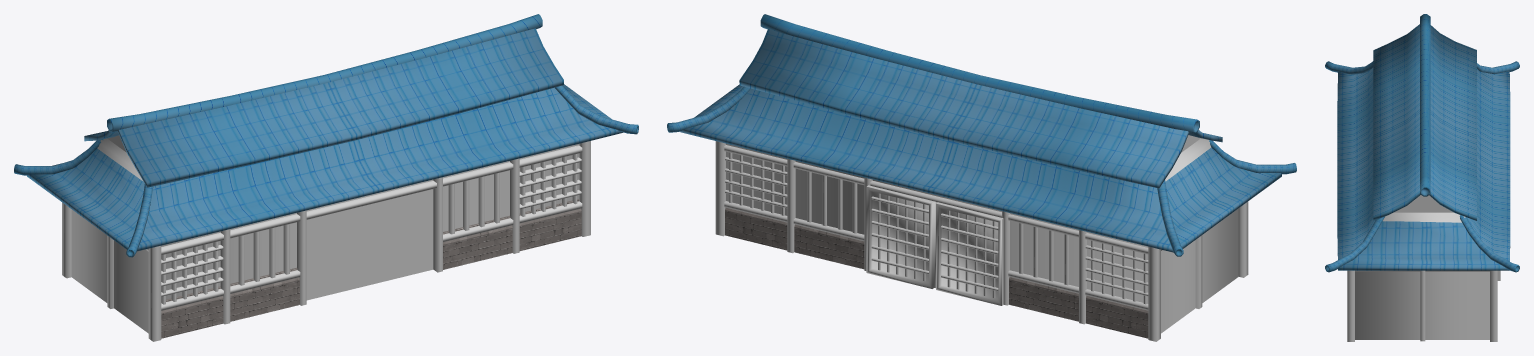
Rendered from Building_3.fbx.
The picture shows the model from 3 angles, left to right: view 1: azimuth 30°, elevation 25°; view 2: azimuth 150°, elevation 25°; view 3: azimuth 270°, elevation 25°; orthographic projection. The views are drawn at different scales.
Parts seen in each view (by area): view 1: Building_3; view 2: Building_3; view 3: Building_3.
Part boxes in pixels (x1,y1,x2,y2): Building_3: (14, 14, 638, 341); Building_3: (667, 14, 1296, 341); Building_3: (1325, 14, 1519, 341).
Size of the model in its own units: 12.91 by 4.5 by 5.16.
